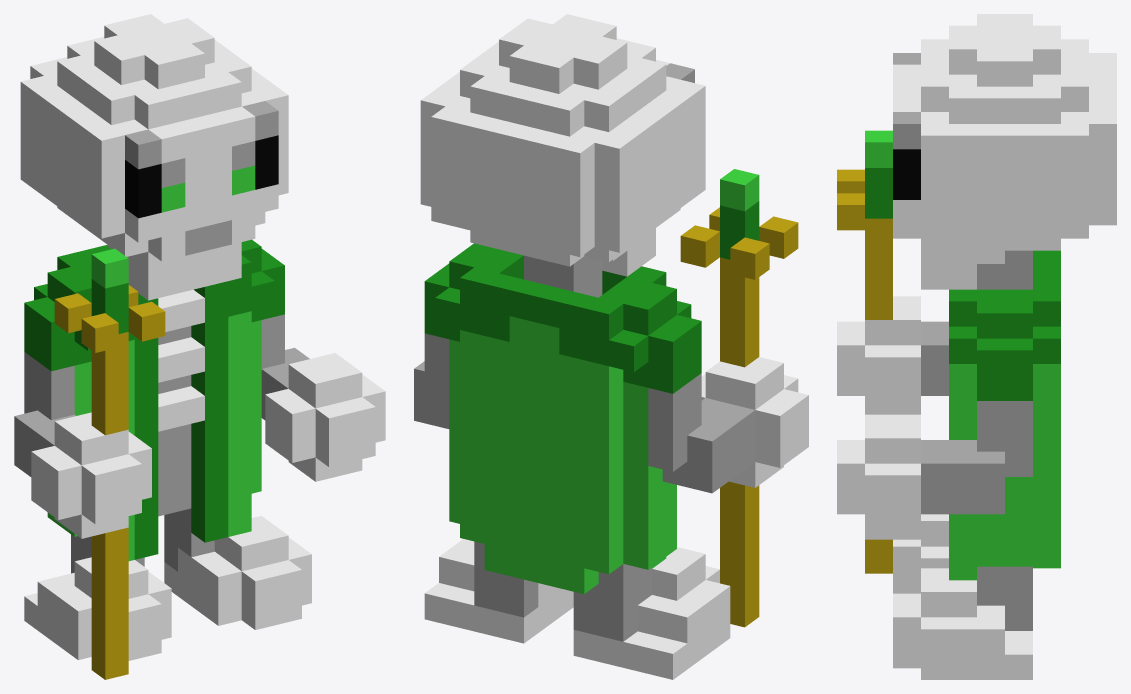
File: rRoam.obj
3 views of the same model, side by side, from view 1: azimuth 30°, elevation 25°; view 2: azimuth 150°, elevation 25°; view 3: azimuth 270°, elevation 25° (orthographic). The views are drawn at different scales.
Bounding box in the file's own units: 1.4 × 2.3 × 1.
1 material, 1 textured.
